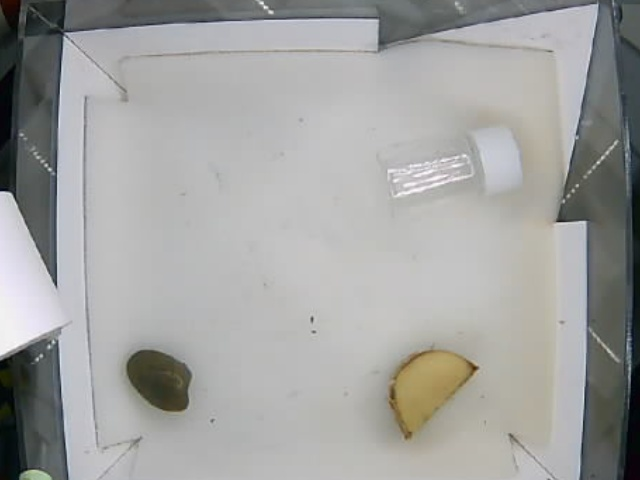Bottle: (378, 125, 523, 200)
Pebble: (124, 347, 197, 413)
Potato: (390, 350, 478, 434)
